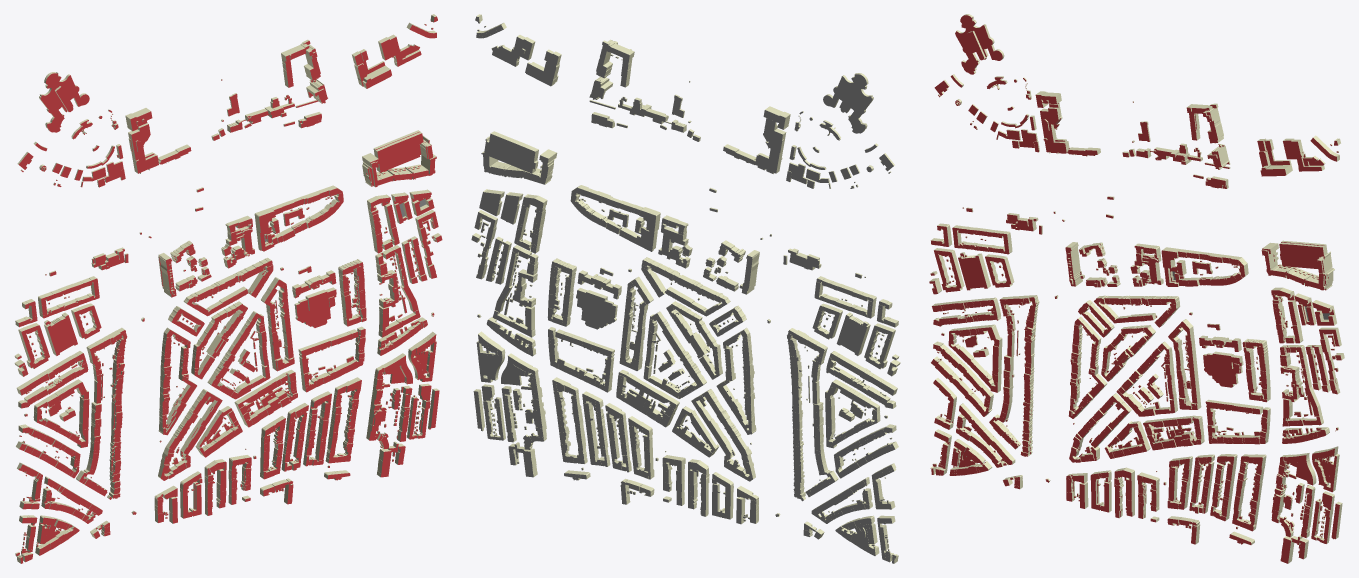
The picture shows the model from 3 angles, left to right: view 1: azimuth 30°, elevation 25°; view 2: azimuth 150°, elevation 25°; view 3: azimuth 330°, elevation 25°; orthographic projection. The views are drawn at different scales.
Parts seen in each view (by area): view 1: NL.IMBAG.Pand.0599100010037503-858, NL.IMBAG.Pand.0599100010006178-1908, NL.IMBAG.Pand.0599100000702262-1865, NL.IMBAG.Pand.0599100000702222-1214, NL.IMBAG.Pand.0599100000281842-927, NL.IMBAG.Pand.0599100000609214-294, NL.IMBAG.Pand.0599100000363319-1837, NL.IMBAG.Pand.0599100000609324-1767, NL.IMBAG.Pand.0599100000639297-581, NL.IMBAG.Pand.0599100000677155-1918, NL.IMBAG.Pand.0599100110025339-1326, NL.IMBAG.Pand.0599100000643702-1435 (+1 smaller); view 2: NL.IMBAG.Pand.0599100010037503-858, NL.IMBAG.Pand.0599100010006178-1908, NL.IMBAG.Pand.0599100000702222-1214, NL.IMBAG.Pand.0599100000702262-1865, NL.IMBAG.Pand.0599100000281842-927, NL.IMBAG.Pand.0599100000609214-294, NL.IMBAG.Pand.0599100000363319-1837, NL.IMBAG.Pand.0599100000609324-1767, NL.IMBAG.Pand.0599100000639297-581, NL.IMBAG.Pand.0599100110025339-1326, NL.IMBAG.Pand.0599100000643702-1435, NL.IMBAG.Pand.0599100000702534-1563 (+1 smaller); view 3: NL.IMBAG.Pand.0599100010037503-858, NL.IMBAG.Pand.0599100000702262-1865, NL.IMBAG.Pand.0599100010006178-1908, NL.IMBAG.Pand.0599100000702222-1214, NL.IMBAG.Pand.0599100000281842-927, NL.IMBAG.Pand.0599100000609214-294, NL.IMBAG.Pand.0599100000363319-1837, NL.IMBAG.Pand.0599100000609324-1767, NL.IMBAG.Pand.0599100110025339-1326, NL.IMBAG.Pand.0599100000679046-897, NL.IMBAG.Pand.0599100000639297-581, NL.IMBAG.Pand.0599100000677141-1839 (+3 smaller).
Boxes of the visible parts, bbox=[...] form: NL.IMBAG.Pand.0599100010037503-858: bbox=[39, 72, 89, 132]; NL.IMBAG.Pand.0599100010006178-1908: bbox=[373, 130, 429, 172]; NL.IMBAG.Pand.0599100000702262-1865: bbox=[362, 153, 436, 187]; NL.IMBAG.Pand.0599100000702222-1214: bbox=[294, 287, 336, 327]; NL.IMBAG.Pand.0599100000281842-927: bbox=[128, 121, 158, 173]; NL.IMBAG.Pand.0599100000609214-294: bbox=[44, 312, 77, 355]; NL.IMBAG.Pand.0599100000363319-1837: bbox=[227, 97, 291, 132]; NL.IMBAG.Pand.0599100000609324-1767: bbox=[225, 226, 254, 262]; NL.IMBAG.Pand.0599100000639297-581: bbox=[180, 481, 201, 518]; NL.IMBAG.Pand.0599100000677155-1918: bbox=[354, 62, 391, 88]; NL.IMBAG.Pand.0599100110025339-1326: bbox=[278, 295, 293, 358]; NL.IMBAG.Pand.0599100000643702-1435: bbox=[408, 350, 435, 379]; NL.IMBAG.Pand.0599100010037503-858: bbox=[823, 73, 873, 133]; NL.IMBAG.Pand.0599100010006178-1908: bbox=[488, 131, 538, 173]; NL.IMBAG.Pand.0599100000702222-1214: bbox=[576, 288, 617, 329]; NL.IMBAG.Pand.0599100000702262-1865: bbox=[481, 149, 557, 184]; NL.IMBAG.Pand.0599100000281842-927: bbox=[755, 118, 786, 173]; NL.IMBAG.Pand.0599100000609214-294: bbox=[836, 312, 870, 355]; NL.IMBAG.Pand.0599100000363319-1837: bbox=[621, 97, 686, 132]; NL.IMBAG.Pand.0599100000609324-1767: bbox=[658, 226, 688, 264]; NL.IMBAG.Pand.0599100000639297-581: bbox=[712, 483, 733, 519]; NL.IMBAG.Pand.0599100110025339-1326: bbox=[620, 295, 635, 358]; NL.IMBAG.Pand.0599100000643702-1435: bbox=[477, 350, 504, 380]; NL.IMBAG.Pand.0599100000702534-1563: bbox=[512, 269, 537, 307]; NL.IMBAG.Pand.0599100010037503-858: bbox=[955, 14, 1004, 74]; NL.IMBAG.Pand.0599100000702262-1865: bbox=[1261, 242, 1334, 290]; NL.IMBAG.Pand.0599100010006178-1908: bbox=[1279, 240, 1327, 273]; NL.IMBAG.Pand.0599100000702222-1214: bbox=[1203, 351, 1243, 387]; NL.IMBAG.Pand.0599100000281842-927: bbox=[1040, 102, 1069, 153]; NL.IMBAG.Pand.0599100000609214-294: bbox=[958, 252, 990, 290]; NL.IMBAG.Pand.0599100000363319-1837: bbox=[1136, 143, 1197, 164]; NL.IMBAG.Pand.0599100000609324-1767: bbox=[1134, 254, 1163, 285]; NL.IMBAG.Pand.0599100110025339-1326: bbox=[1185, 338, 1200, 403]; NL.IMBAG.Pand.0599100000679046-897: bbox=[1065, 242, 1084, 286]; NL.IMBAG.Pand.0599100000639297-581: bbox=[1091, 479, 1111, 512]; NL.IMBAG.Pand.0599100000677141-1839: bbox=[1202, 103, 1223, 143].
Bounding box in the file's own units: 1022 × 1120 × 41.33.
